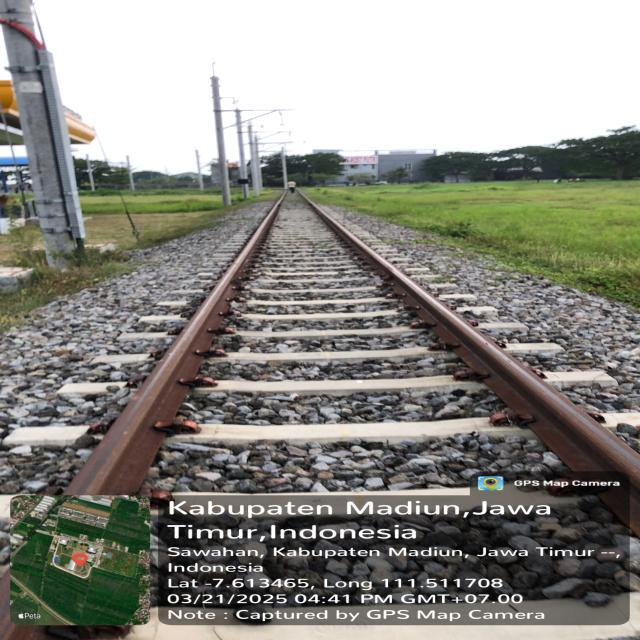rail-detection: (310, 203, 640, 536), (66, 215, 272, 495)
